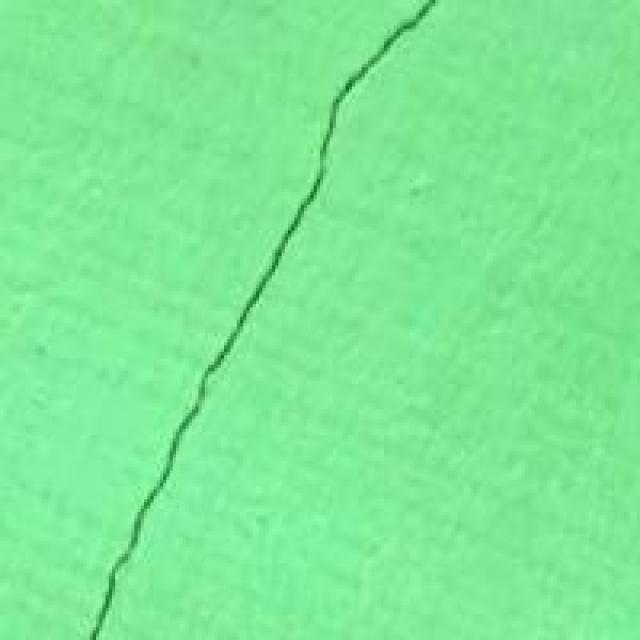crack: (83, 0, 448, 637)
